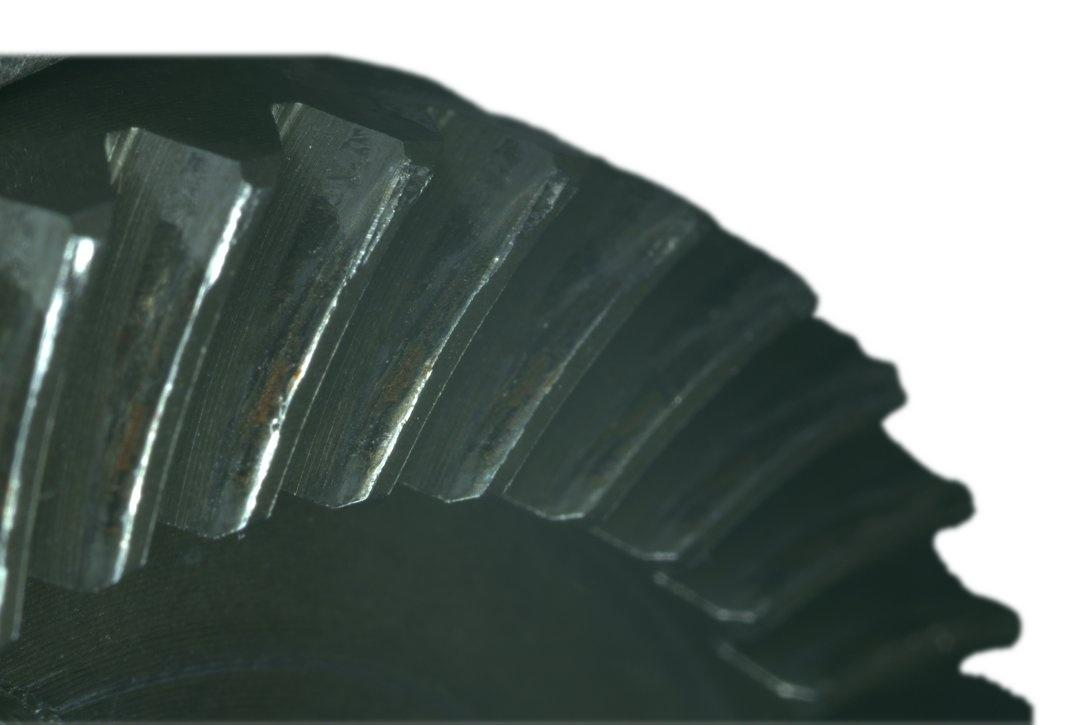defect: (160, 102, 436, 534), (287, 111, 580, 504), (32, 126, 277, 586), (400, 165, 718, 499), (506, 237, 814, 517), (605, 322, 902, 556), (632, 218, 705, 274), (755, 721, 1029, 724)
